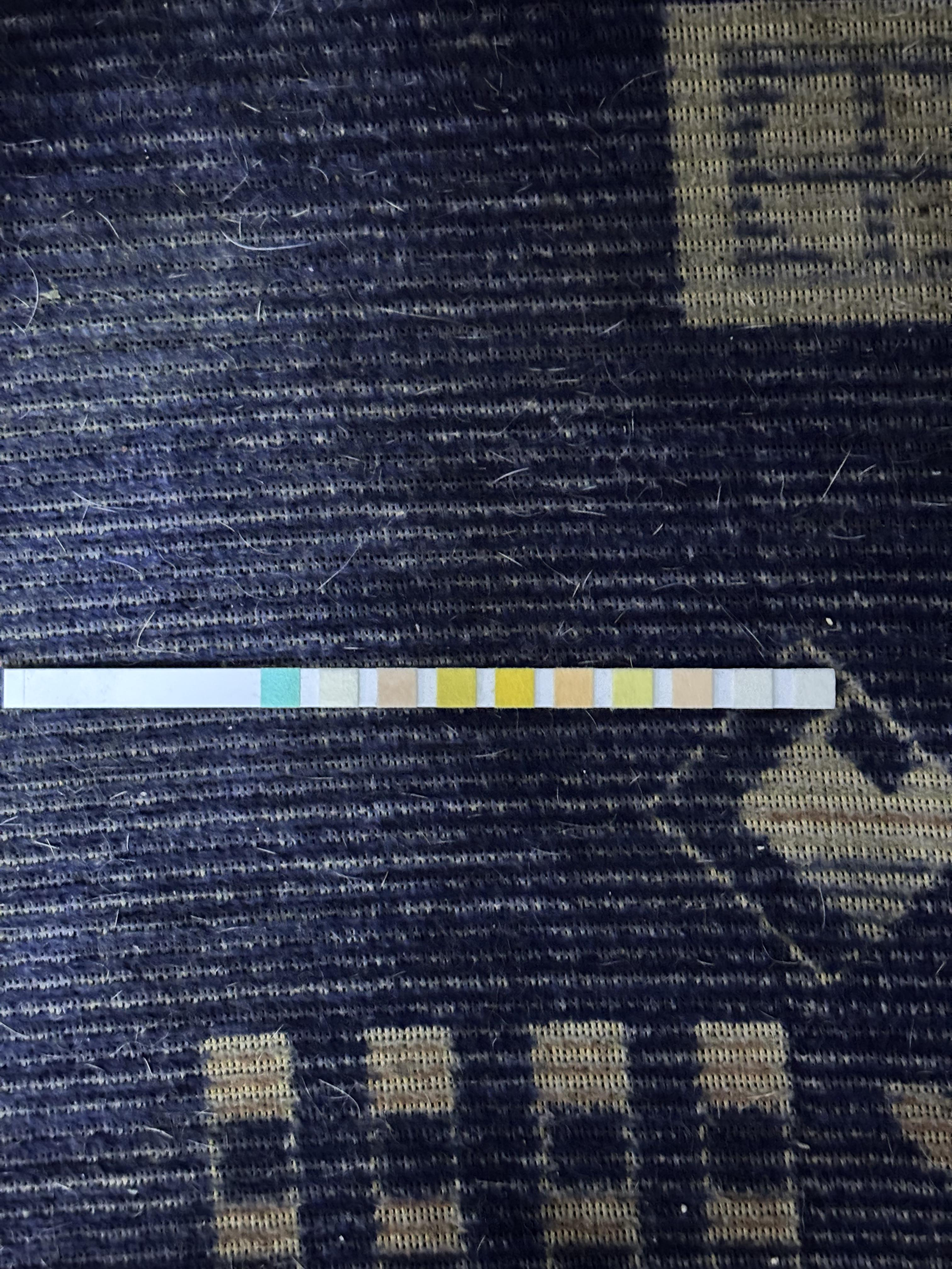Bilirubin: (320, 668, 358, 707)
Blood: (496, 668, 534, 708)
Glucose: (261, 668, 299, 708)
Ketone: (378, 668, 417, 707)
Leukocytes: (795, 668, 834, 708)
Nitrite: (736, 669, 773, 709)
Protein: (613, 668, 653, 707)
SpGravity: (437, 668, 476, 708)
Urobilinogen: (672, 669, 713, 708)
pH: (554, 669, 593, 707)
strip: (3, 668, 837, 710)
